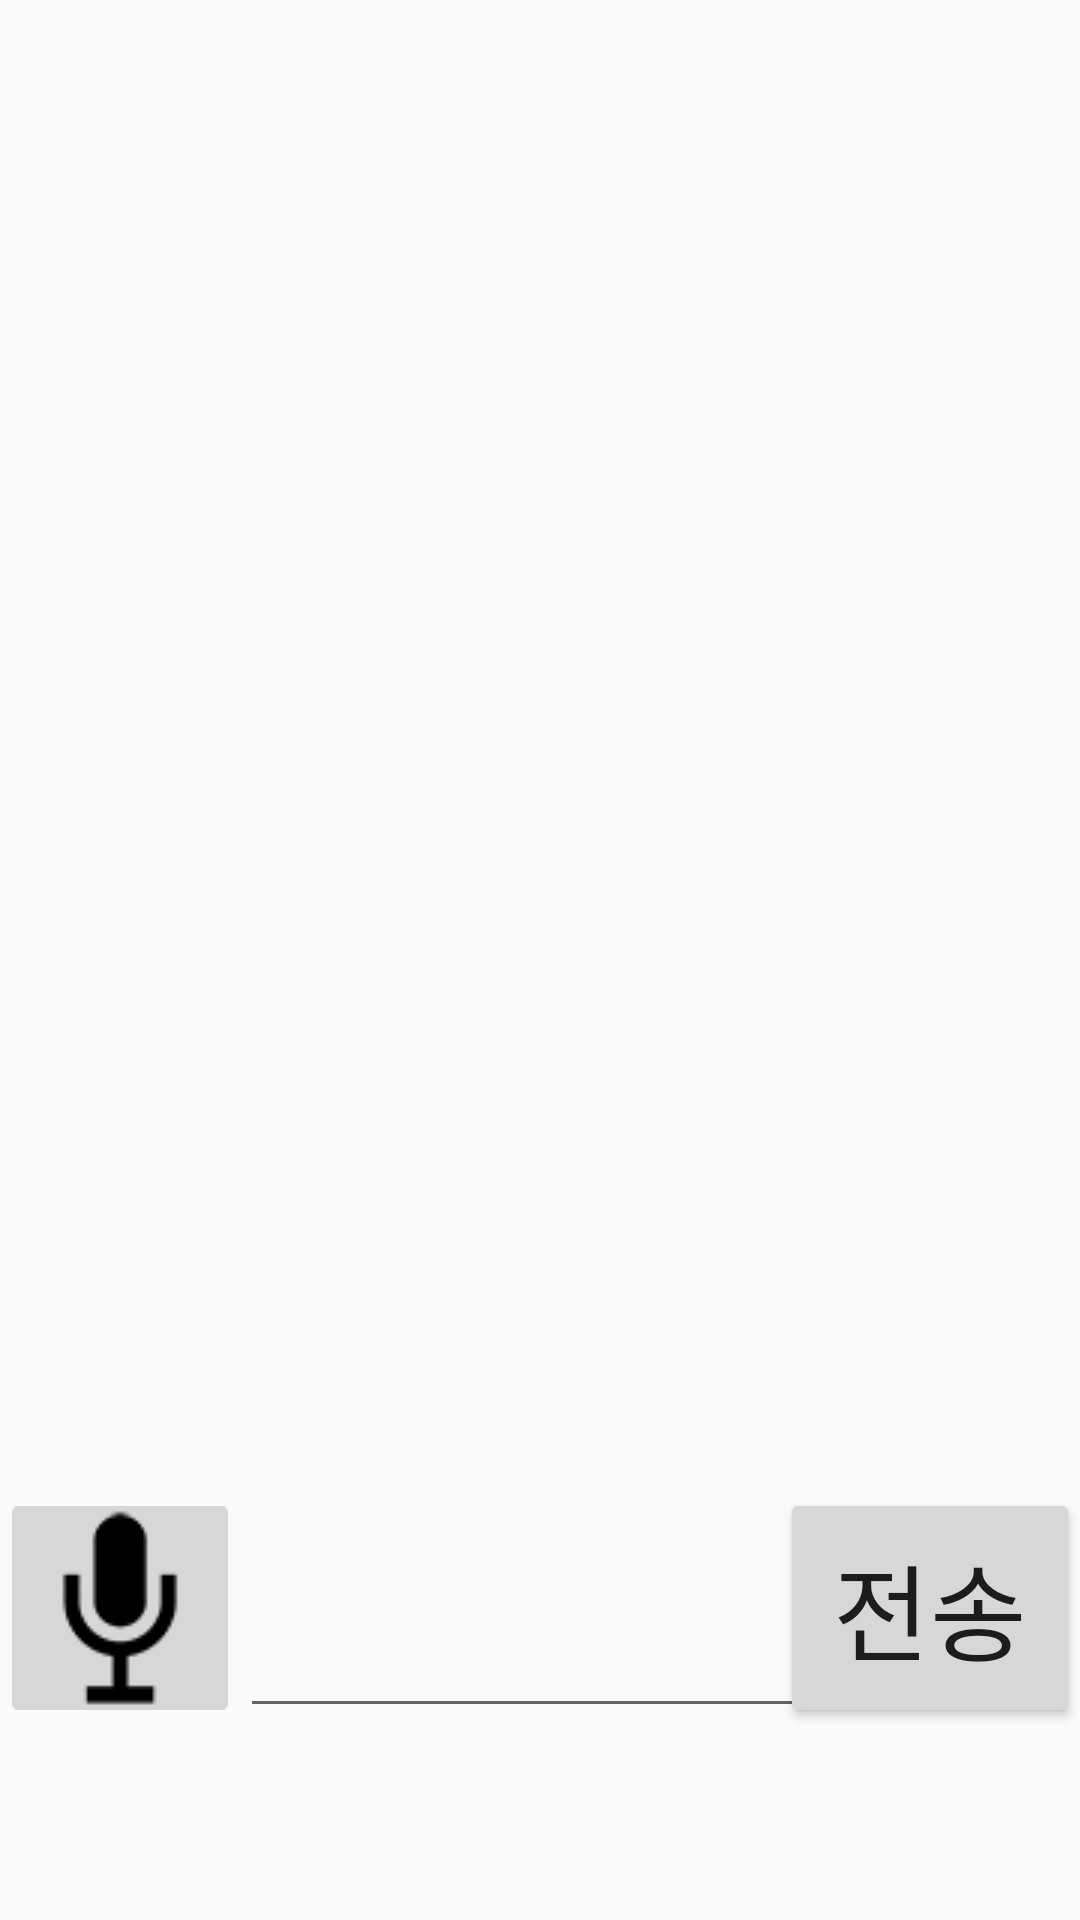

Locate icon controls on the screen. Image size 1080×1920, boxes as bbox=[x1, y1, x2, y2].
mic: bbox=[12, 1506, 228, 1710]
